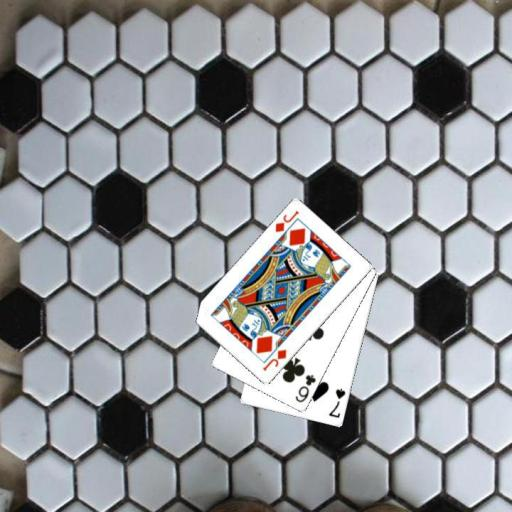6C: (292, 372, 317, 404)
7S: (326, 386, 347, 420)
JD: (260, 346, 288, 373), (272, 208, 301, 234)
